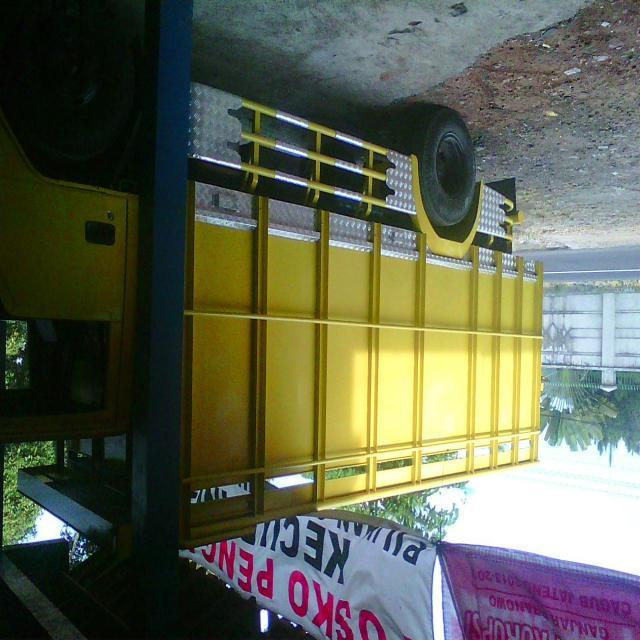truck: (0, 1, 544, 560)
